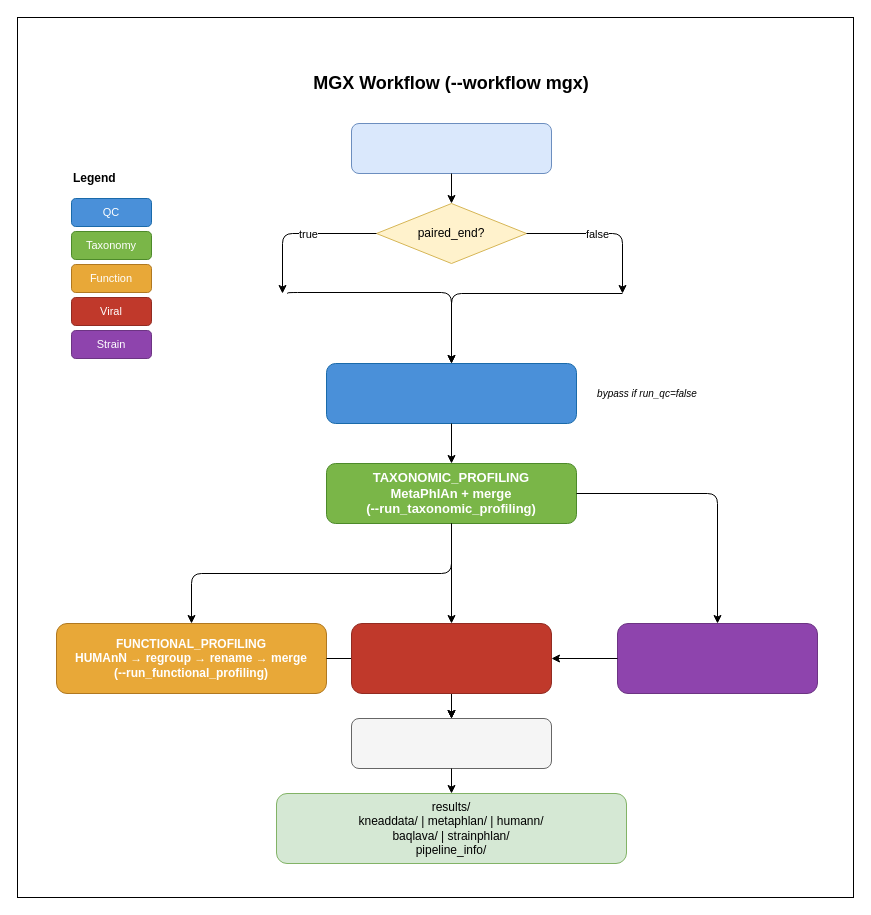
Image size: 871x915. Some labels were removed from this diagram. Each missing label, with the centre of its shape:
"QUALITY_CONTROL KneadData (--run_qc)" goes at (x=451, y=393).
"Raw FASTQ reads (--readsdir)" goes at (x=451, y=148).
"STRAIN_PROFILING StrainPhlAn SGB mode (--run_strain_profiling)" goes at (x=717, y=658).
"version_log pipeline_info/" goes at (x=451, y=743).
"VIRAL_PROFILING BAQLaVa (--run_viral_profiling)" goes at (x=451, y=658).
